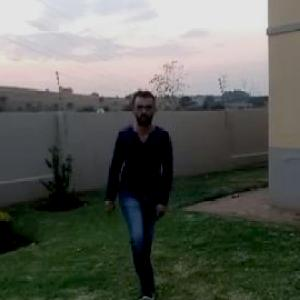follow: (111, 82, 173, 299)
